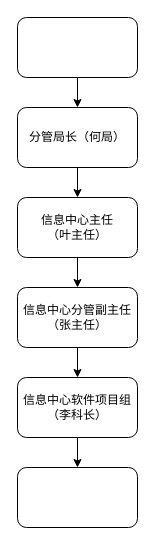
Some shapes in this 155 by 545 pixel diagram are drawn without their labels. Each missing label, with the centre of its shape:
"信息中心软件项目组对接人 （郭梦）" goes at (x=77, y=497).
"局长（null）" goes at (x=77, y=47).
